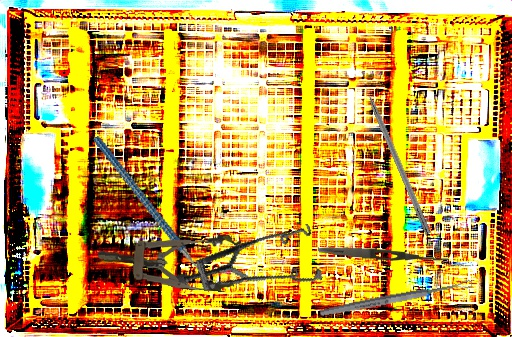Chopper: (93, 113, 224, 309)
Dressing Forceps: (317, 244, 450, 265)
Hook Surgical: (359, 75, 433, 235)
Speculum: (166, 184, 339, 337), (96, 226, 242, 293)
Surgical Spoon: (318, 278, 474, 319)
